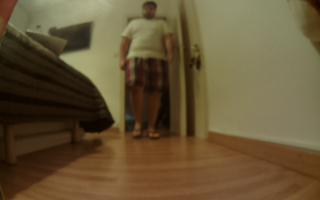person: (117, 1, 178, 145)
